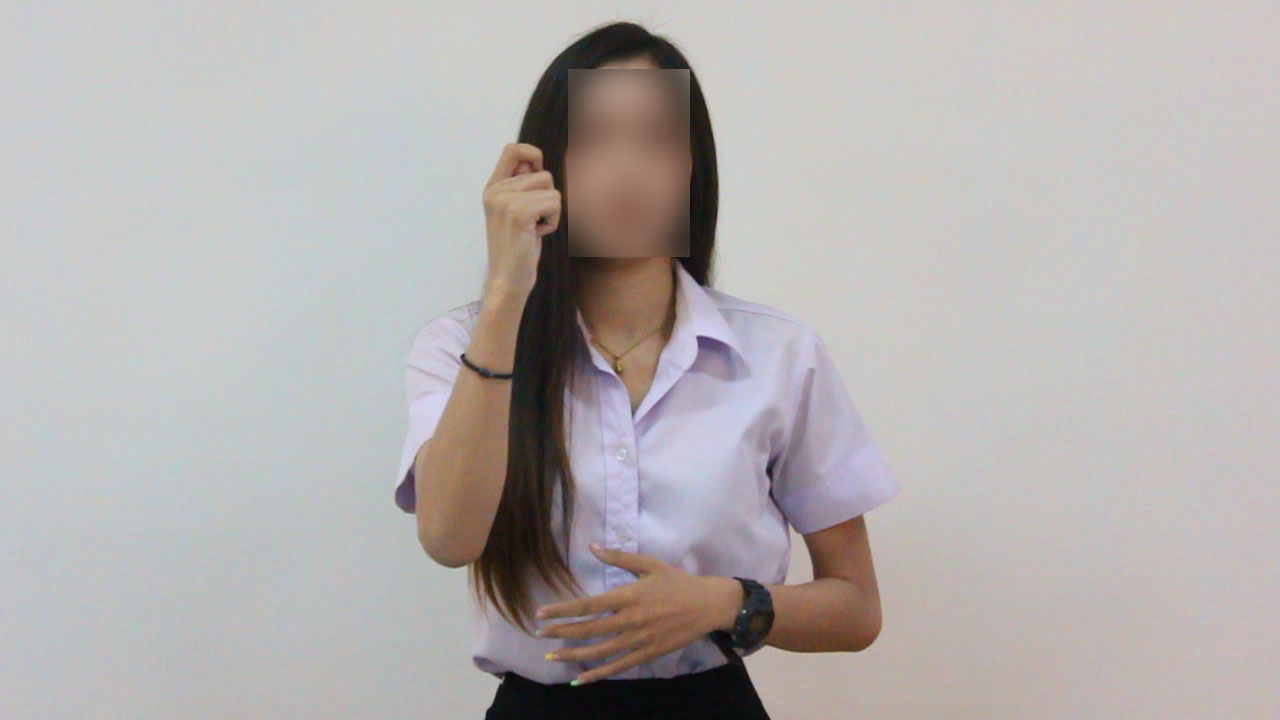or: (470, 135, 570, 312)
